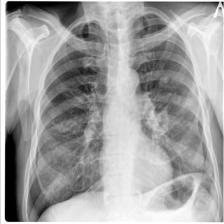tuberculosis: (23, 7, 218, 224)
